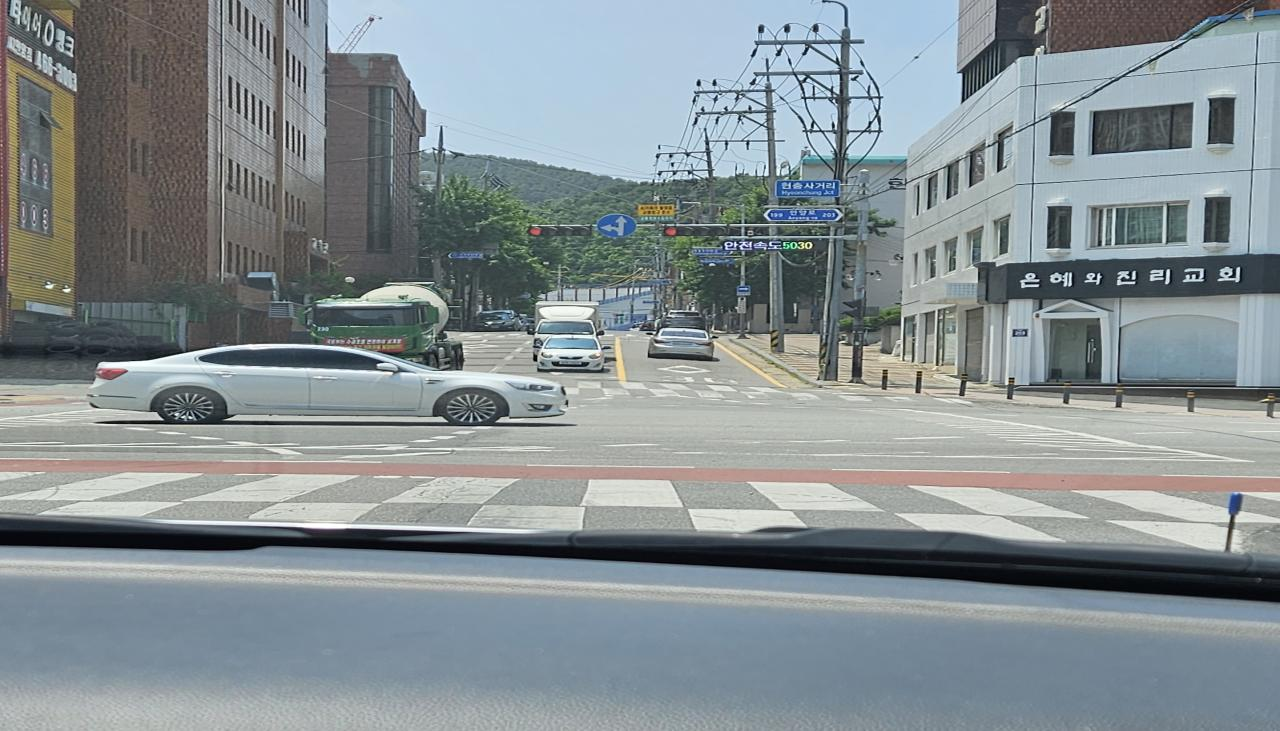Red Light: (526, 226, 543, 236), (663, 226, 677, 236)
